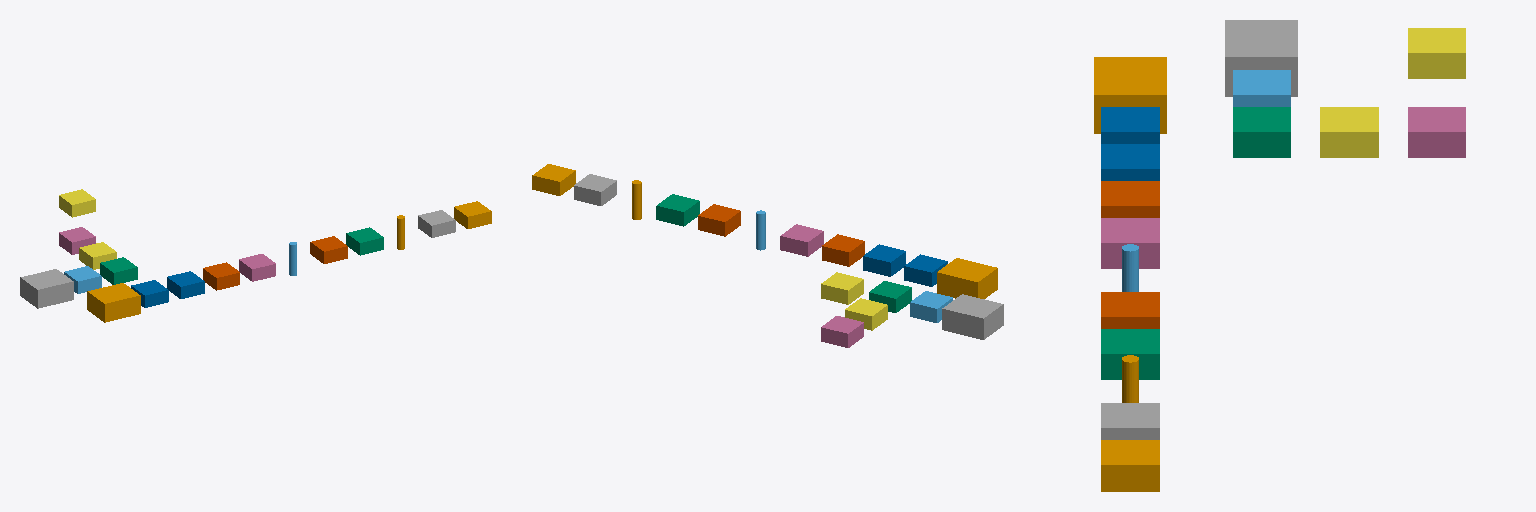
URDF robot description (planetary_gear_transmission_for_gas_turbine_engines):
<?xml version="1.0" ?>
<robot name="planetary_gear_transmission_for_gas_turbine_engines">
  <link name="engine_housing">
    <visual>
      <geometry>
        <box size="0.06 0.05 0.03"/>
      </geometry>
    </visual>
  </link>
  <link name="engine_output_shaft">
    <visual>
      <geometry>
        <cylinder radius="0.006" length="0.05"/>
      </geometry>
    </visual>
  </link>
  <link name="first_planetary_carrier">
    <visual>
      <geometry>
        <box size="0.04 0.04 0.02"/>
      </geometry>
    </visual>
  </link>
  <link name="first_planetary_pinion">
    <visual>
      <geometry>
        <box size="0.04 0.04 0.02"/>
      </geometry>
    </visual>
  </link>
  <link name="first_ring_gear_member">
    <visual>
      <geometry>
        <box size="0.04 0.04 0.02"/>
      </geometry>
    </visual>
  </link>
  <link name="first_stage_assembly">
    <visual>
      <geometry>
        <box size="0.04 0.04 0.02"/>
      </geometry>
    </visual>
  </link>
  <link name="first_sun_gear">
    <visual>
      <geometry>
        <box size="0.04 0.04 0.02"/>
      </geometry>
    </visual>
  </link>
  <link name="gear_case_housing">
    <visual>
      <geometry>
        <box size="0.06 0.05 0.03"/>
      </geometry>
    </visual>
  </link>
  <link name="propeller_shaft">
    <visual>
      <geometry>
        <cylinder radius="0.006" length="0.05"/>
      </geometry>
    </visual>
  </link>
  <link name="ring_gear_means">
    <visual>
      <geometry>
        <box size="0.04 0.04 0.02"/>
      </geometry>
    </visual>
  </link>
  <link name="second_planetary_carrier">
    <visual>
      <geometry>
        <box size="0.04 0.04 0.02"/>
      </geometry>
    </visual>
  </link>
  <link name="second_planetary_pinion_gears">
    <visual>
      <geometry>
        <box size="0.04 0.04 0.02"/>
      </geometry>
    </visual>
  </link>
  <link name="second_ring_gear_member">
    <visual>
      <geometry>
        <box size="0.04 0.04 0.02"/>
      </geometry>
    </visual>
  </link>
  <link name="second_stage_assembly">
    <visual>
      <geometry>
        <box size="0.04 0.04 0.02"/>
      </geometry>
    </visual>
  </link>
  <link name="second_sun_gear">
    <visual>
      <geometry>
        <box size="0.04 0.04 0.02"/>
      </geometry>
    </visual>
  </link>
  <link name="similar_carrier">
    <visual>
      <geometry>
        <box size="0.04 0.04 0.02"/>
      </geometry>
    </visual>
  </link>
  <link name="supplementary_pinion_gears">
    <visual>
      <geometry>
        <box size="0.04 0.04 0.02"/>
      </geometry>
    </visual>
  </link>
  <joint name="_attach_first_planetary_carrier_to_first_planetary_pinion" type="fixed">
    <parent link="first_planetary_carrier"/>
    <child link="first_planetary_pinion"/>
    <origin xyz="0.0000 0.0600 0.0000" rpy="0 0 0"/>
  </joint>
  <joint name="_attach_first_planetary_carrier_to_second_sun_gear" type="fixed">
    <parent link="first_planetary_carrier"/>
    <child link="second_sun_gear"/>
    <origin xyz="0.0000 0.1200 0.0000" rpy="0 0 0"/>
  </joint>
  <joint name="_attach_first_planetary_pinion_to_first_ring_gear_member" type="fixed">
    <parent link="first_planetary_pinion"/>
    <child link="first_ring_gear_member"/>
    <origin xyz="0.0000 -0.1500 0.0000" rpy="0 0 0"/>
  </joint>
  <joint name="_attach_first_planetary_pinion_to_first_sun_gear" type="fixed">
    <parent link="first_planetary_pinion"/>
    <child link="first_sun_gear"/>
    <origin xyz="0.1800 -0.1500 0.0000" rpy="0 0 0"/>
  </joint>
  <joint name="_attach_first_sun_gear_to_engine_output_shaft" type="fixed">
    <parent link="first_sun_gear"/>
    <child link="engine_output_shaft"/>
    <origin xyz="0.0600 0.0000 0.0000" rpy="0 0 0"/>
  </joint>
  <joint name="_attach_gear_case_housing_to_engine_housing" type="fixed">
    <parent link="gear_case_housing"/>
    <child link="engine_housing"/>
    <origin xyz="0.0600 -0.0900 0.0000" rpy="0 0 0"/>
  </joint>
  <joint name="_attach_gear_case_housing_to_first_planetary_carrier" type="fixed">
    <parent link="gear_case_housing"/>
    <child link="first_planetary_carrier"/>
    <origin xyz="0.1200 0.0000 0.0000" rpy="0 0 0"/>
  </joint>
  <joint name="_attach_gear_case_housing_to_first_stage_assembly" type="fixed">
    <parent link="gear_case_housing"/>
    <child link="first_stage_assembly"/>
    <origin xyz="0.2400 -0.0900 0.0000" rpy="0 0 0"/>
  </joint>
  <joint name="_attach_gear_case_housing_to_ring_gear_means" type="fixed">
    <parent link="gear_case_housing"/>
    <child link="ring_gear_means"/>
    <origin xyz="0.0600 0.0000 0.0000" rpy="0 0 0"/>
  </joint>
  <joint name="_attach_gear_case_housing_to_second_stage_assembly" type="fixed">
    <parent link="gear_case_housing"/>
    <child link="second_stage_assembly"/>
    <origin xyz="0.4200 -0.0900 0.0000" rpy="0 0 0"/>
  </joint>
  <joint name="_attach_gear_case_housing_to_supplementary_pinion_gears" type="fixed">
    <parent link="gear_case_housing"/>
    <child link="supplementary_pinion_gears"/>
    <origin xyz="0.6600 -0.0900 0.0000" rpy="0 0 0"/>
  </joint>
  <joint name="_attach_propeller_shaft_to_similar_carrier" type="fixed">
    <parent link="propeller_shaft"/>
    <child link="similar_carrier"/>
    <origin xyz="0.0600 0.0000 0.0000" rpy="0 0 0"/>
  </joint>
  <joint name="_attach_second_planetary_carrier_to_propeller_shaft" type="fixed">
    <parent link="second_planetary_carrier"/>
    <child link="propeller_shaft"/>
    <origin xyz="0.0600 0.0000 0.0000" rpy="0 0 0"/>
  </joint>
  <joint name="_attach_second_planetary_pinion_gears_to_second_planetary_carrier" type="fixed">
    <parent link="second_planetary_pinion_gears"/>
    <child link="second_planetary_carrier"/>
    <origin xyz="0.3600 -0.2100 -0.0600" rpy="0 0 0"/>
  </joint>
  <joint name="_attach_second_planetary_pinion_gears_to_second_ring_gear_member" type="fixed">
    <parent link="second_planetary_pinion_gears"/>
    <child link="second_ring_gear_member"/>
    <origin xyz="0.0600 -0.2100 -0.0600" rpy="0 0 0"/>
  </joint>
  <joint name="_attach_second_sun_gear_to_second_planetary_pinion_gears" type="fixed">
    <parent link="second_sun_gear"/>
    <child link="second_planetary_pinion_gears"/>
    <origin xyz="0.0000 0.0000 0.0600" rpy="0 0 0"/>
  </joint>
</robot>

--- What the picture shows (computed from the rendered views, not written in the file) ---
The picture shows the robot from 3 angles, left to right: view 1: azimuth 30°, elevation 25°; view 2: azimuth 150°, elevation 25°; view 3: azimuth 270°, elevation 25°; orthographic projection.
Model planetary_gear_transmission_for_gas_turbine_engines with 17 links and 16 joints (16 fixed), rooted at gear_case_housing, posed all joints at 0.
Visible links, largest first — view 1: engine_housing, gear_case_housing, similar_carrier, supplementary_pinion_gears, second_ring_gear_member, second_stage_assembly, second_planetary_carrier, first_planetary_carrier, first_sun_gear, first_stage_assembly, second_planetary_pinion_gears, first_ring_gear_member (+3 smaller); view 2: gear_case_housing, engine_housing, first_sun_gear, supplementary_pinion_gears, second_planetary_carrier, second_planetary_pinion_gears, second_stage_assembly, first_stage_assembly, second_sun_gear, similar_carrier, second_ring_gear_member, first_ring_gear_member (+3 smaller); view 3: gear_case_housing, engine_housing, supplementary_pinion_gears, first_planetary_pinion, first_planetary_carrier, second_planetary_pinion_gears, second_sun_gear, first_sun_gear, second_planetary_carrier, first_ring_gear_member, first_stage_assembly, second_ring_gear_member (+5 smaller).
Boxes of the visible links, <box> form: engine_housing: <box>87,283,140,322</box>; gear_case_housing: <box>20,269,73,308</box>; similar_carrier: <box>418,210,455,237</box>; supplementary_pinion_gears: <box>454,201,491,228</box>; second_ring_gear_member: <box>167,271,204,298</box>; second_stage_assembly: <box>310,236,347,263</box>; second_planetary_carrier: <box>346,227,383,255</box>; first_planetary_carrier: <box>100,257,137,284</box>; first_sun_gear: <box>239,254,275,281</box>; first_stage_assembly: <box>203,262,239,290</box>; second_planetary_pinion_gears: <box>59,189,95,217</box>; first_ring_gear_member: <box>131,280,168,307</box>; gear_case_housing: <box>942,294,1003,339</box>; engine_housing: <box>937,258,997,298</box>; first_sun_gear: <box>780,224,823,256</box>; supplementary_pinion_gears: <box>532,164,575,195</box>; second_planetary_carrier: <box>656,194,699,226</box>; second_planetary_pinion_gears: <box>821,272,863,304</box>; second_stage_assembly: <box>698,204,740,236</box>; first_stage_assembly: <box>822,234,864,266</box>; second_sun_gear: <box>821,316,863,347</box>; similar_carrier: <box>574,174,616,205</box>; second_ring_gear_member: <box>863,244,905,276</box>; first_ring_gear_member: <box>904,254,947,286</box>; gear_case_housing: <box>1225,20,1297,96</box>; engine_housing: <box>1094,57,1166,133</box>; supplementary_pinion_gears: <box>1101,440,1159,491</box>; first_planetary_pinion: <box>1320,107,1378,157</box>; first_planetary_carrier: <box>1233,107,1290,157</box>; second_planetary_pinion_gears: <box>1408,28,1465,78</box>; second_sun_gear: <box>1408,107,1465,157</box>; first_sun_gear: <box>1101,218,1159,268</box>; second_planetary_carrier: <box>1101,329,1159,379</box>; first_ring_gear_member: <box>1101,107,1159,143</box>; first_stage_assembly: <box>1101,181,1159,217</box>; second_ring_gear_member: <box>1101,144,1159,180</box>.
Bounding box of the posed robot: 0.71 × 0.255 × 0.095 m (x, y, z).
Geometry: primitives only (box / cylinder / sphere), no mesh files.
